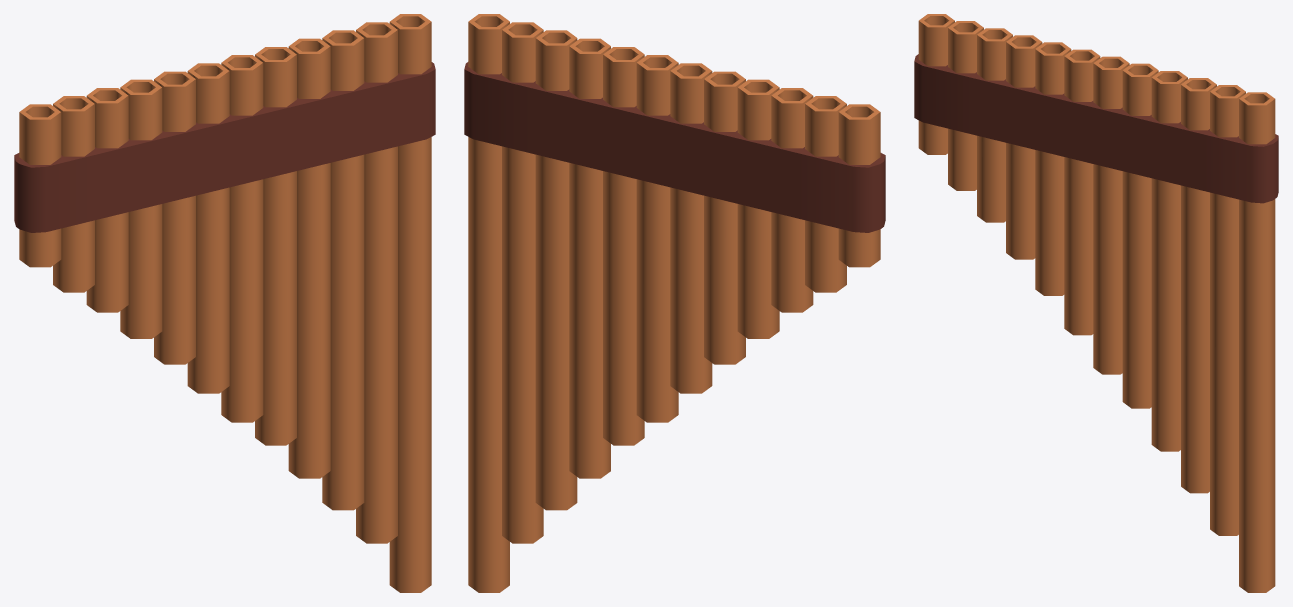
File: PanFlute_01.fbx
3 views of the same model, side by side, from view 1: azimuth 30°, elevation 25°; view 2: azimuth 150°, elevation 25°; view 3: azimuth 330°, elevation 25° (orthographic). The views are drawn at different scales.
Parts seen in each view (by area): view 1: PanFlute_01; view 2: PanFlute_01; view 3: PanFlute_01.
Boxes of the visible parts, x1,y1,x2,y2 form: PanFlute_01: (14,14,435,592); PanFlute_01: (464,14,885,592); PanFlute_01: (914,14,1278,592).
Size of the model in its own units: 0.2212 by 0.2878 by 0.021.
